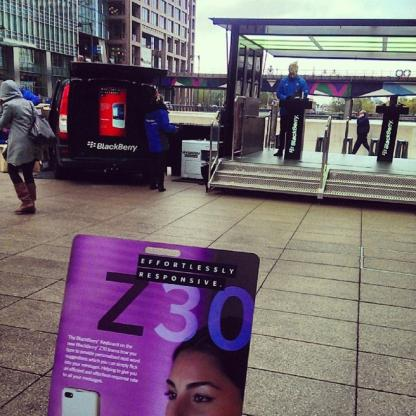Car: (48, 64, 171, 180)
